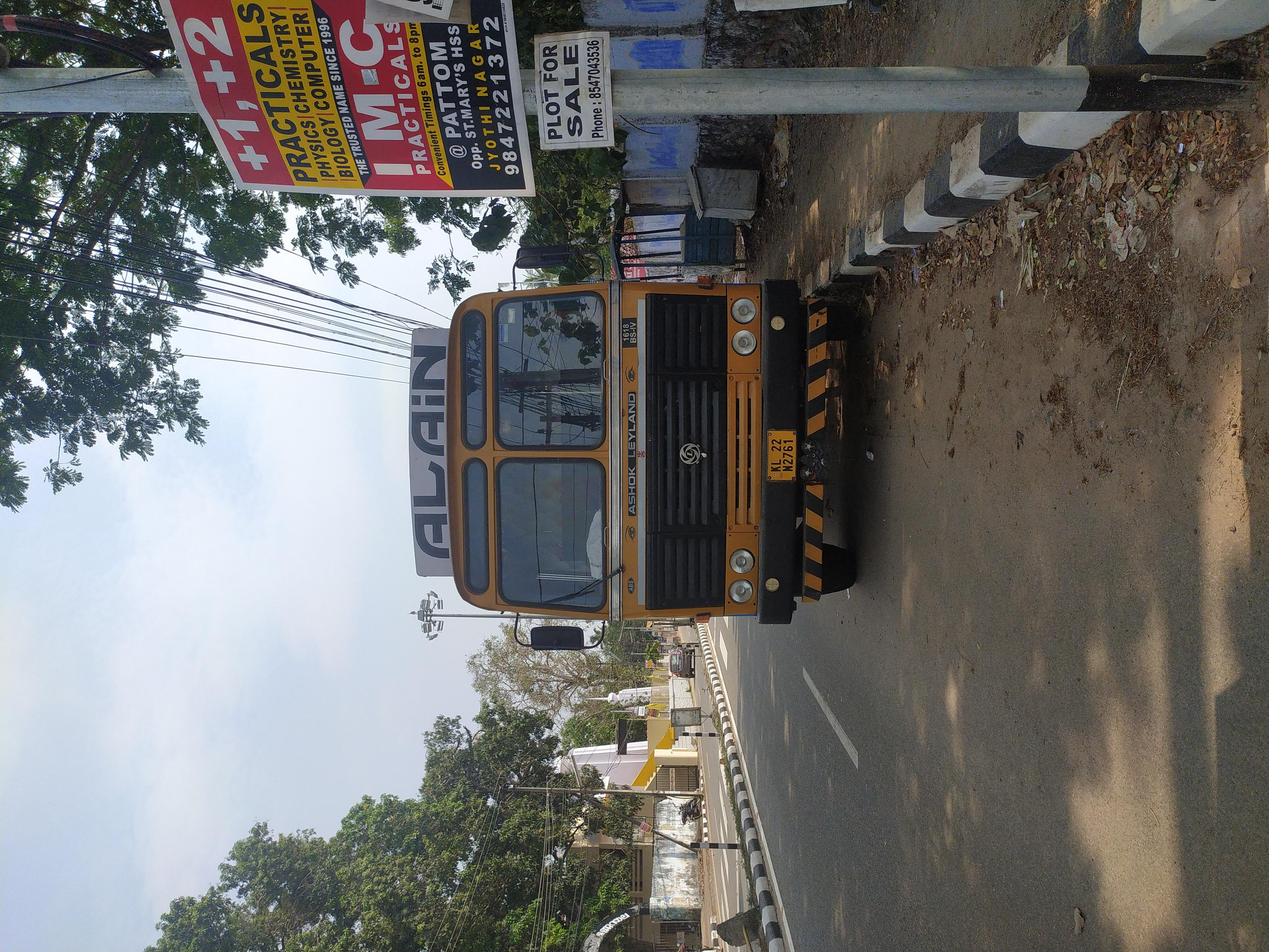License-Plate: (629, 575, 695, 597)
